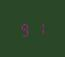nine: (19, 21, 31, 37)
one: (32, 20, 44, 35)
